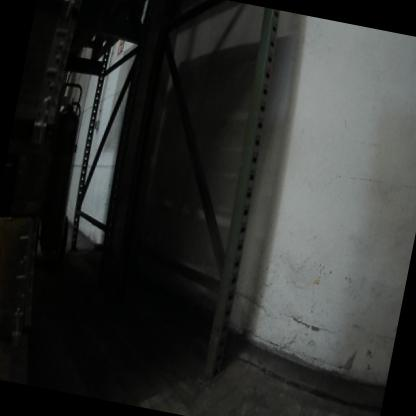pallet: (53, 0, 149, 89)
